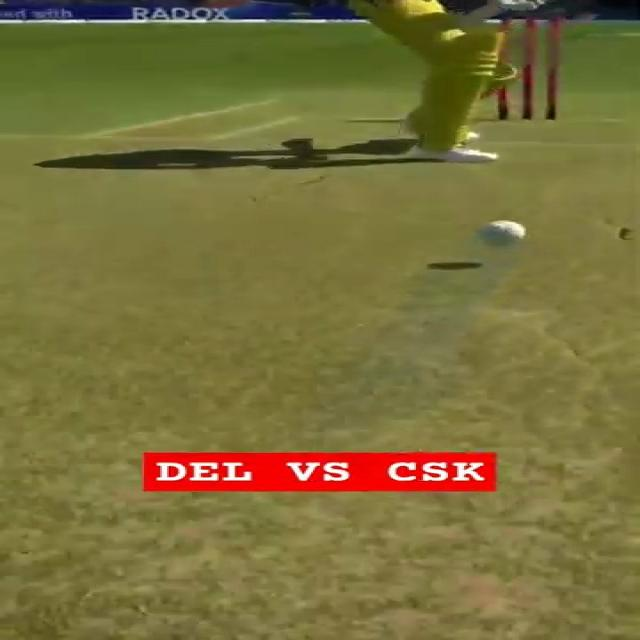ball: (480, 220, 526, 247)
